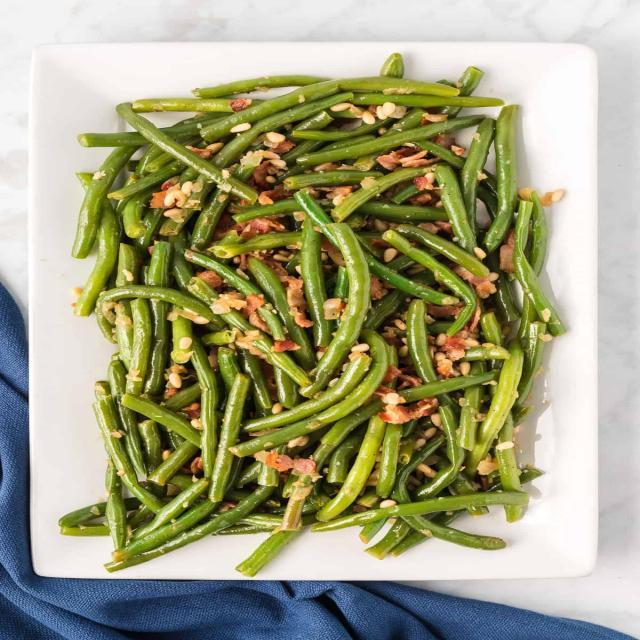Beans: (64, 61, 554, 566)
